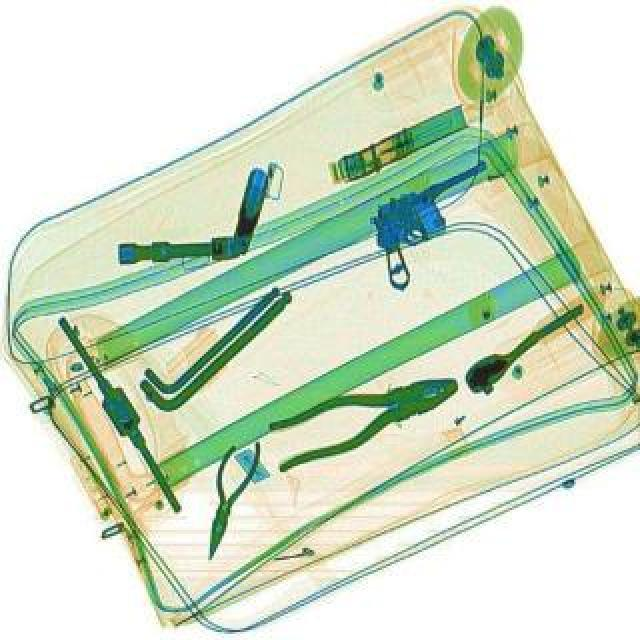gun: (352, 156, 524, 294)
wrench: (260, 358, 468, 474), (194, 434, 262, 564)
